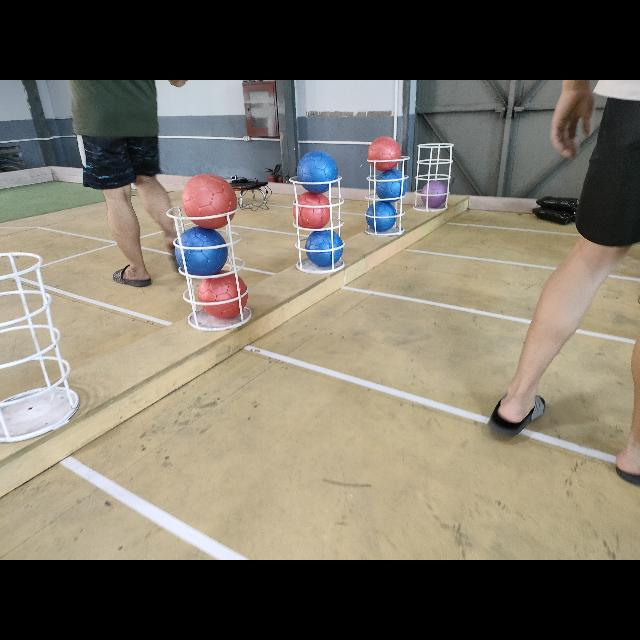B: (176, 228, 227, 274), (297, 150, 339, 193), (306, 230, 344, 266), (376, 168, 406, 202), (367, 201, 398, 231)
R: (182, 174, 236, 228), (198, 272, 248, 318), (292, 192, 331, 228), (368, 137, 400, 171)
